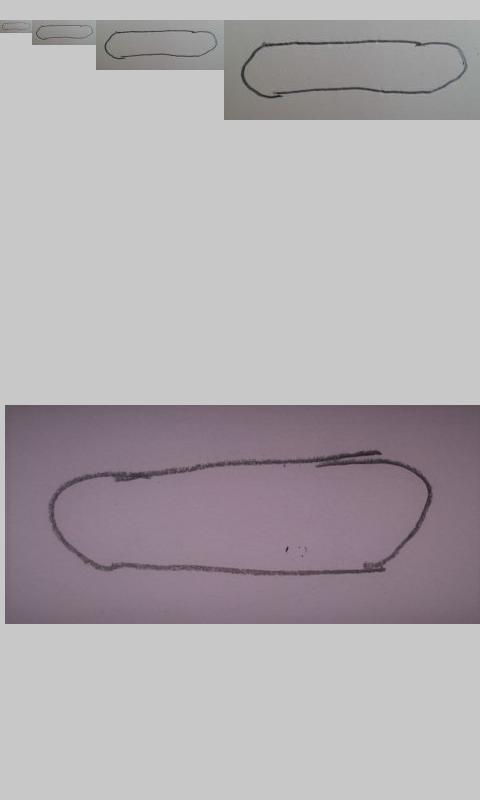chip: (48, 453, 433, 577), (240, 40, 468, 99), (104, 30, 218, 59), (36, 25, 94, 40), (2, 22, 31, 31)
